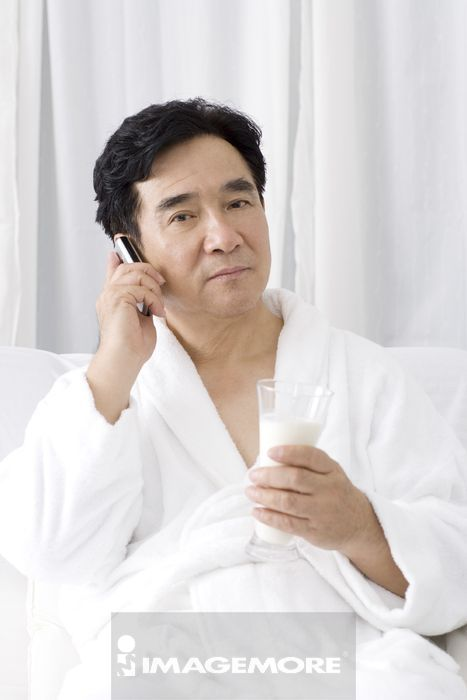talk: (90, 168, 274, 364)
